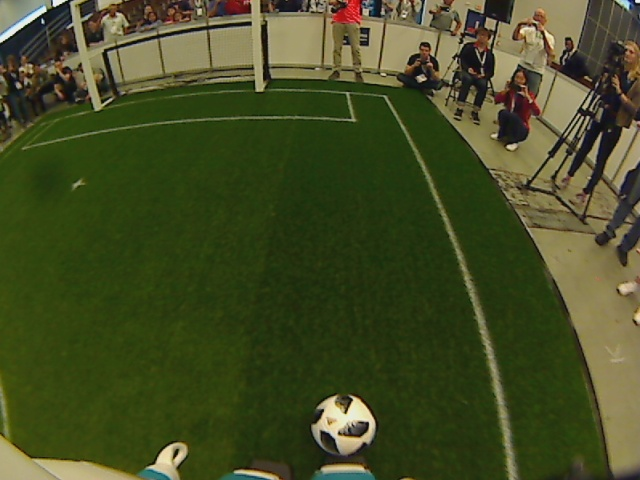ball: (306, 390, 380, 457)
